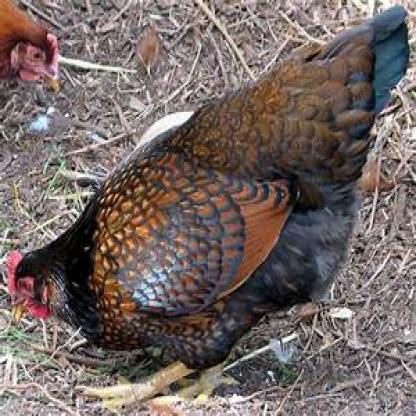chicken: (6, 5, 410, 406), (0, 0, 60, 94)
